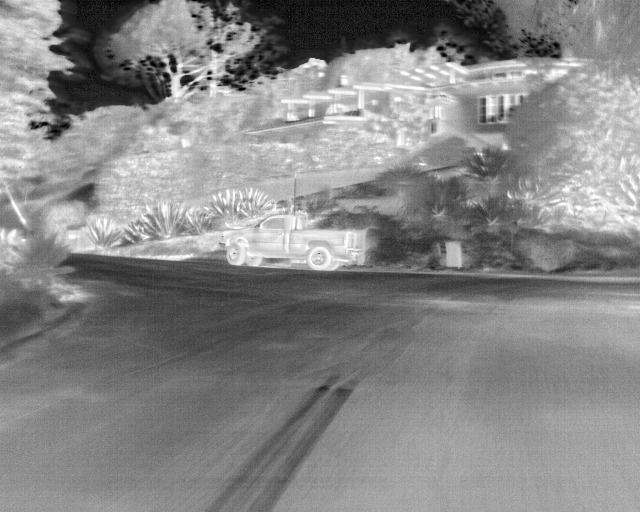car: (224, 210, 361, 272)
